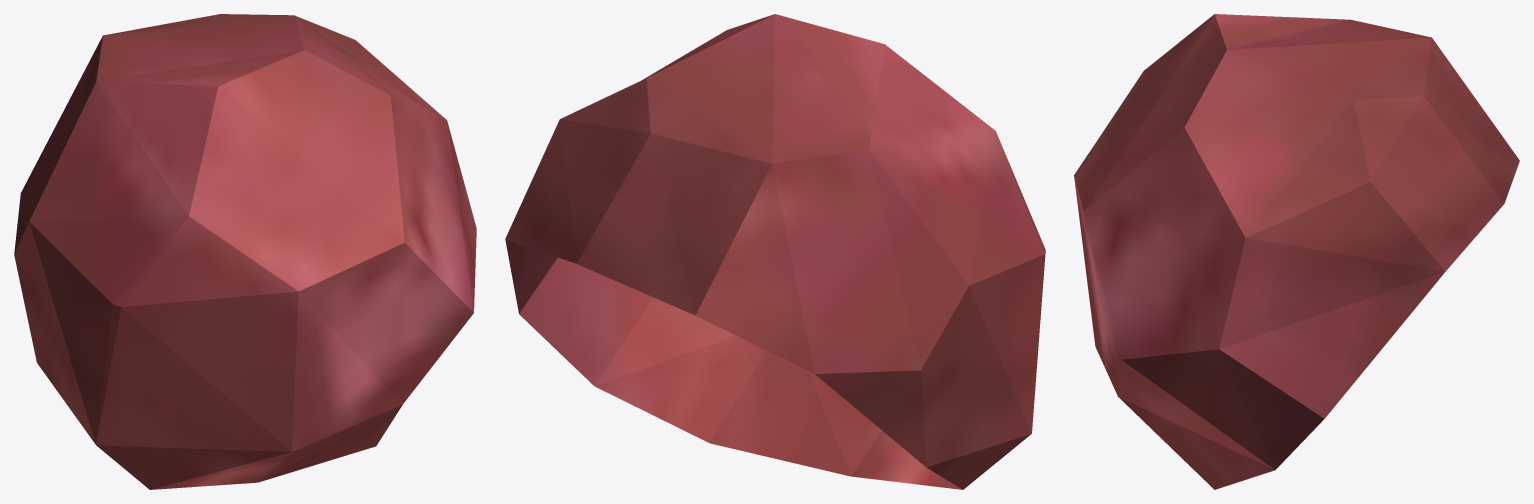
Rendered from 0419_shitou.glb.
3 renders of one model, left to right at view 1: azimuth 30°, elevation 25°; view 2: azimuth 150°, elevation 25°; view 3: azimuth 270°, elevation 25°, orthographic. The views are drawn at different scales.
Size of the model in its own units: 2.2 by 2.12 by 2.08.
1 material, 1 textured.
